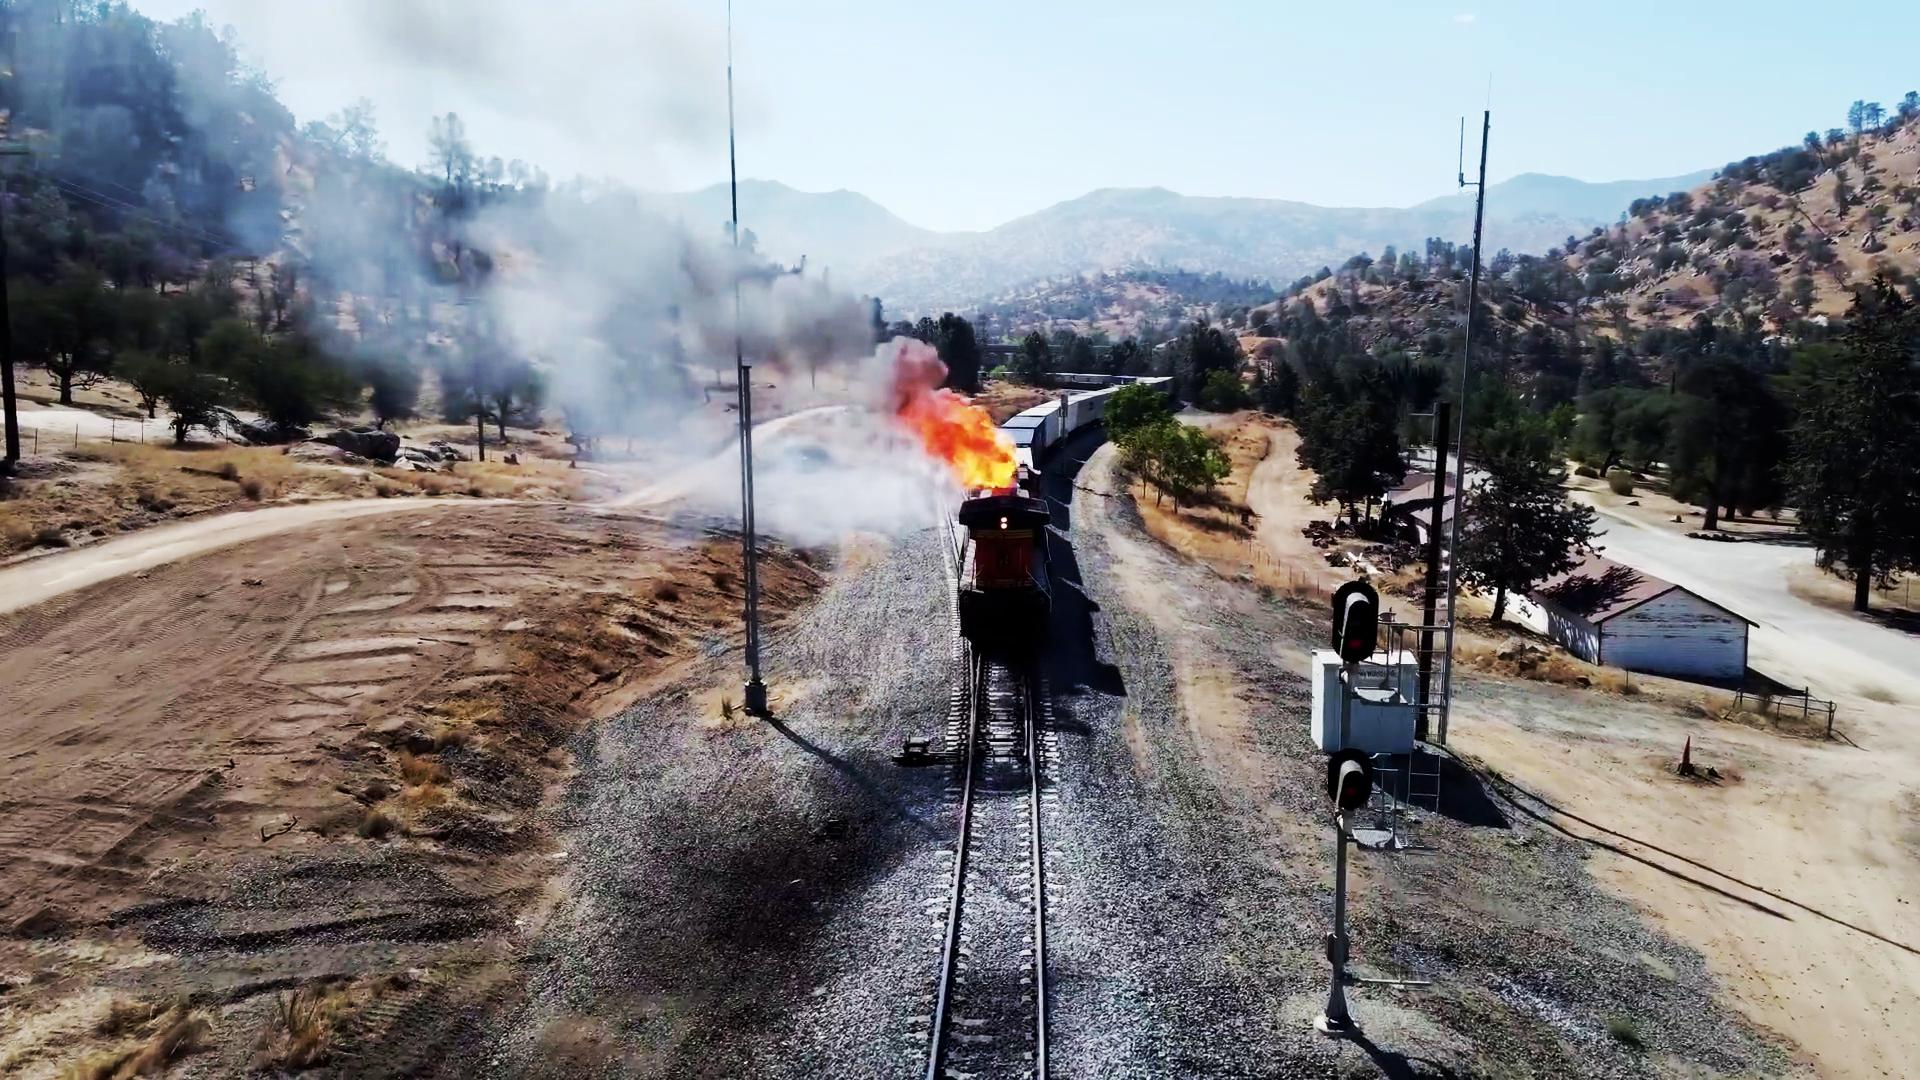fire: (926, 404, 1033, 506)
smoke: (711, 270, 862, 371)
